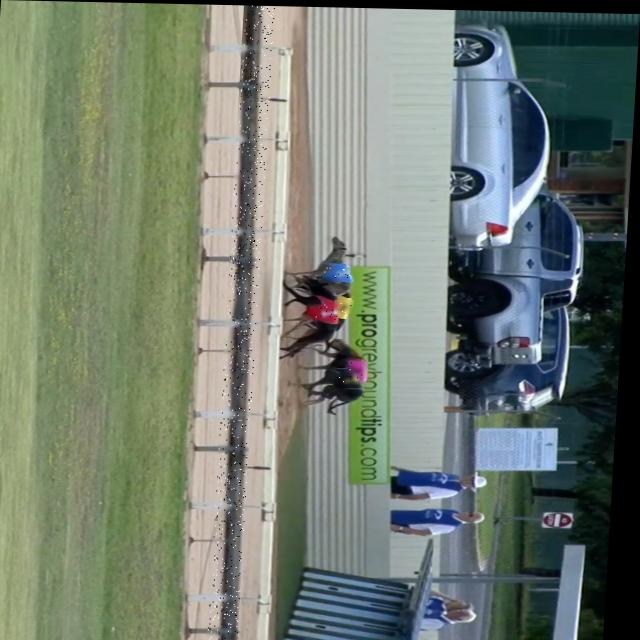dog_eight: (353, 359, 372, 377)
dog_five: (337, 298, 356, 312)
dog_four: (325, 264, 353, 280)
dog_one: (315, 303, 342, 319)
dog_seven: (338, 371, 364, 383)
rail: (227, 4, 261, 640)
